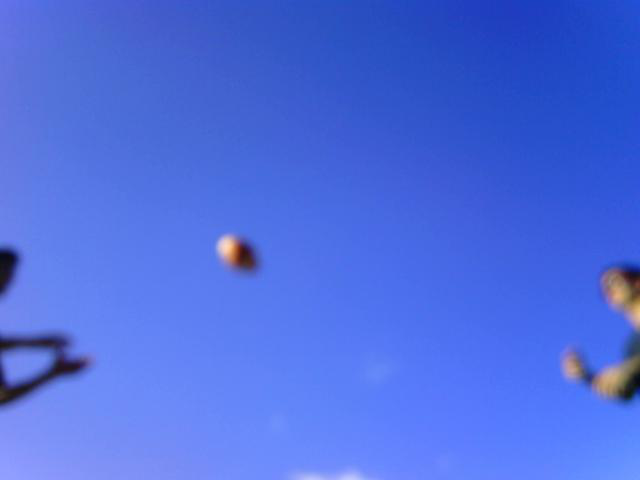football: (214, 231, 261, 278)
